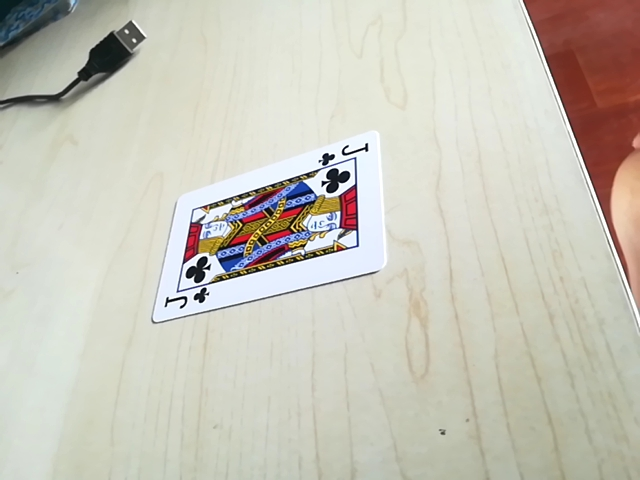mh j: (157, 284, 213, 316), (324, 142, 374, 167)
